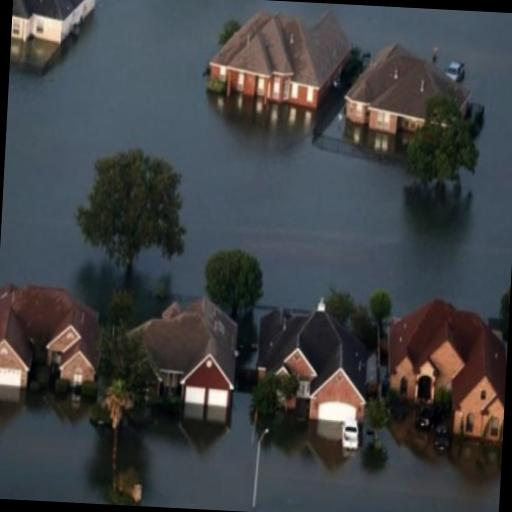flood: (0, 0, 512, 318), (254, 420, 502, 512), (117, 394, 259, 512)
house: (375, 291, 510, 456), (195, 0, 352, 132), (335, 34, 474, 168), (270, 294, 376, 450), (133, 288, 238, 426), (0, 279, 99, 406), (9, 0, 99, 81)
